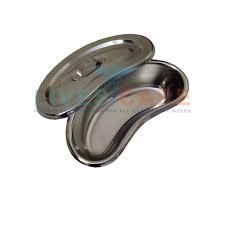Kidney Tray: (62, 57, 201, 166)
